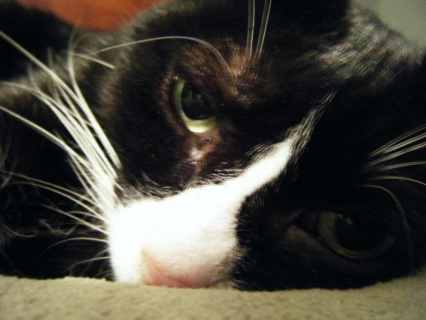Cat: (0, 0, 425, 291)
